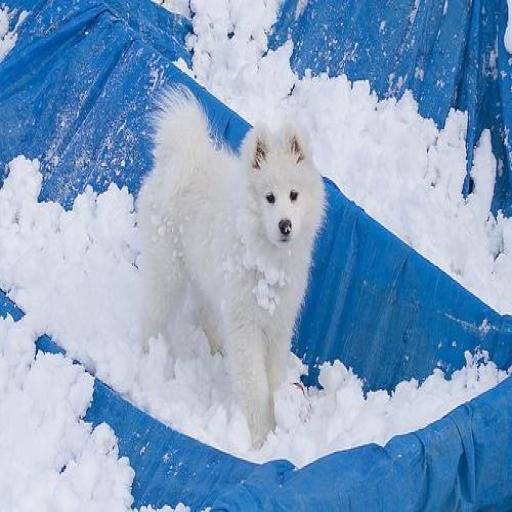dog_face: (246, 125, 317, 252)
